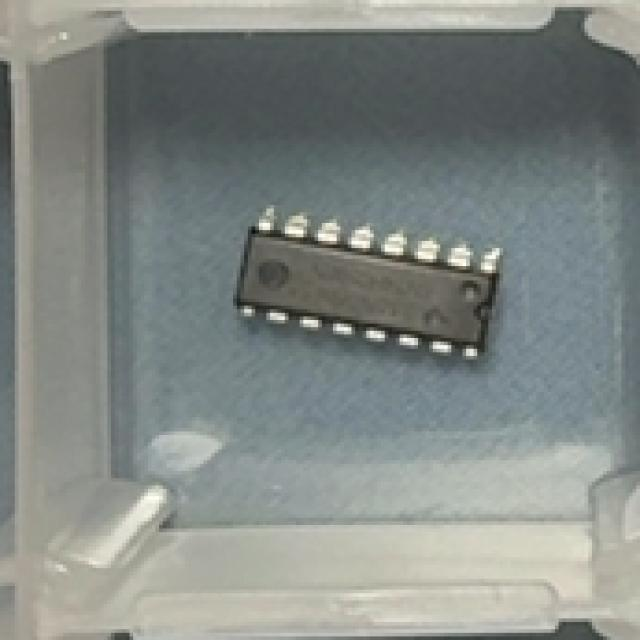IC: (231, 206, 503, 367)
